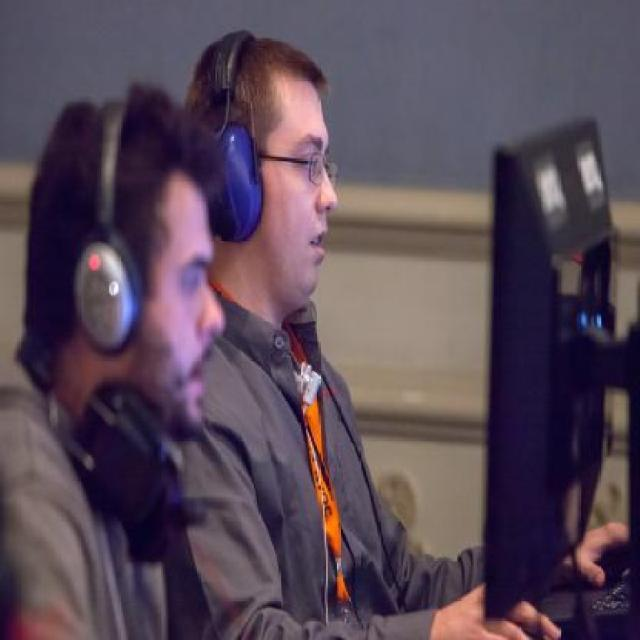earphone: (82, 100, 165, 338), (198, 0, 266, 231)
laptop_computer: (476, 83, 602, 637)
